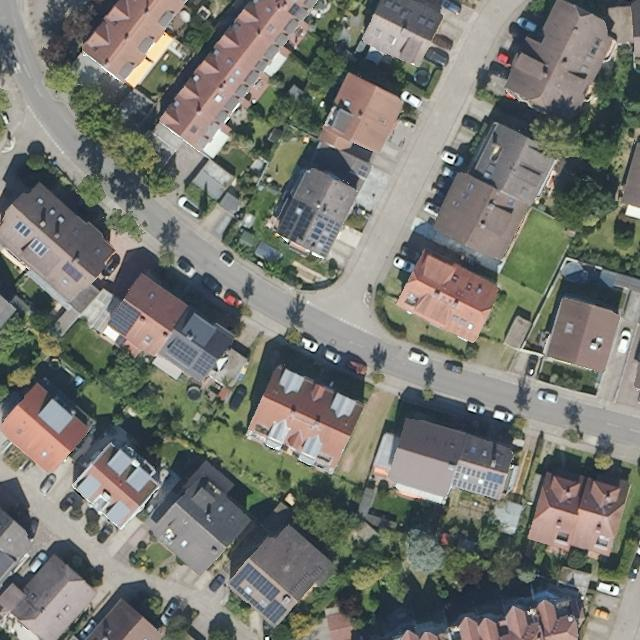PV: (222, 558, 292, 629), (449, 458, 508, 502), (273, 197, 317, 245), (103, 297, 144, 339), (308, 212, 344, 259), (167, 335, 202, 366), (190, 347, 220, 378)
